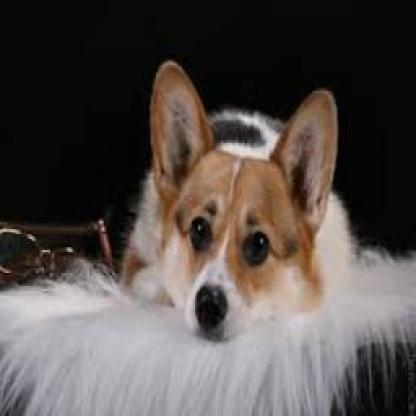dog: (122, 59, 338, 346)
